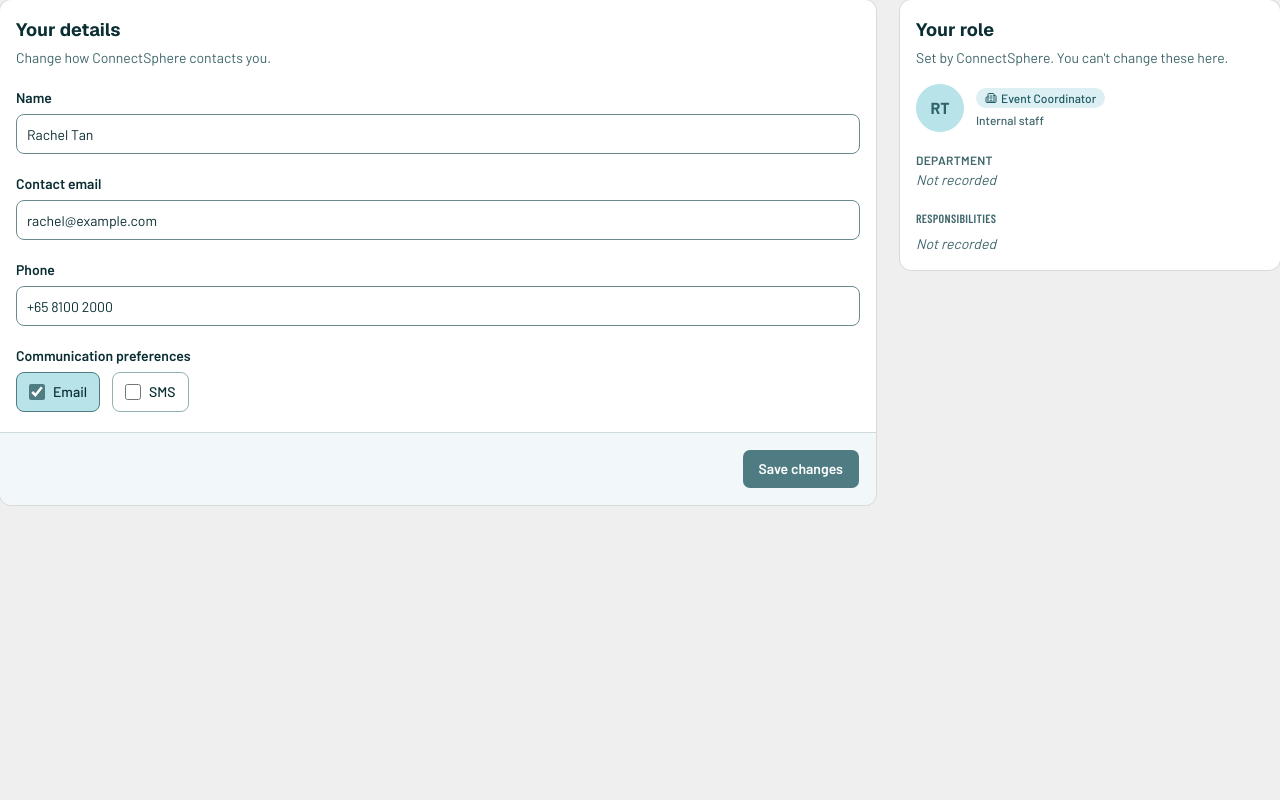
Test case: SCRUM-68/AC6 profile form: saving › 68-S4: sends the new details and confirms 'Profile updated.' when everything is valid
Replace the text in the field labelled "Name" with "Rachel Lim": [438, 134] box x1=16 y1=114 x2=860 y2=154
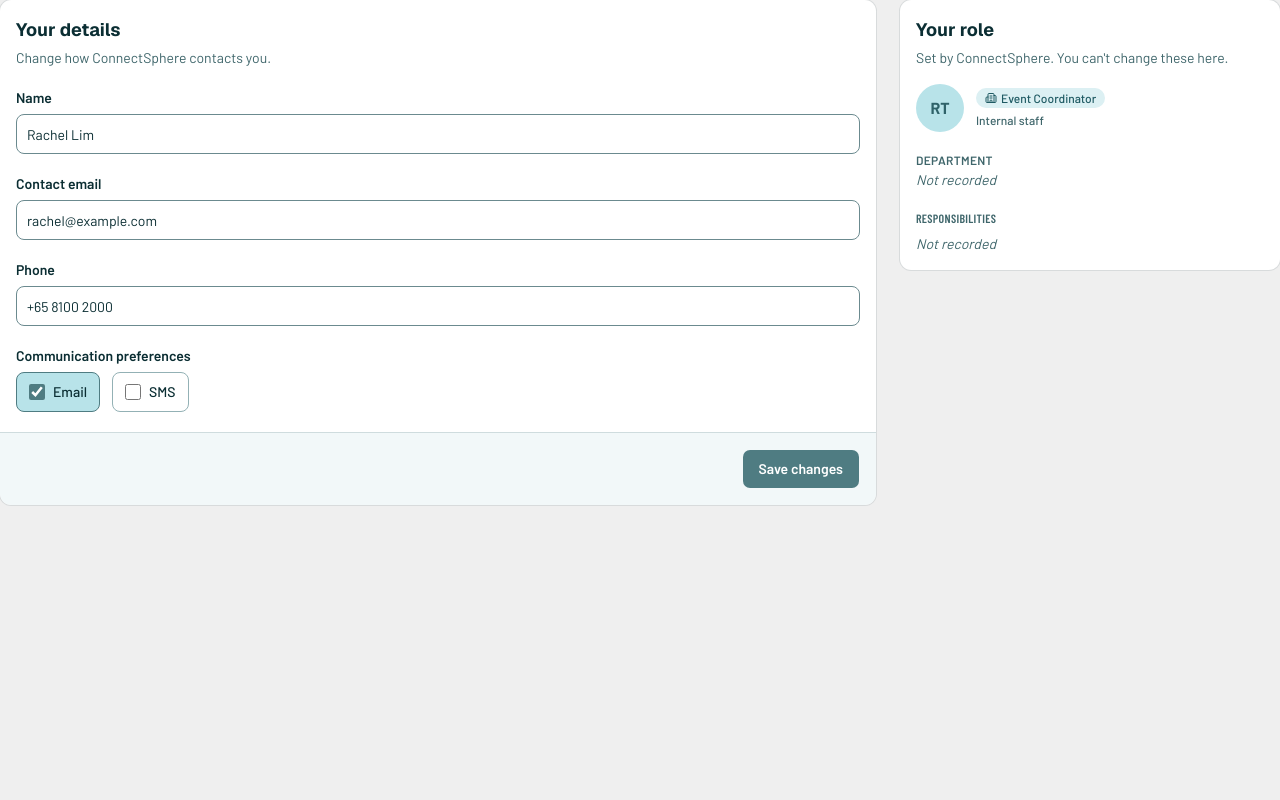
Click the checkbox labelled "SMS": [133, 392] box x1=125 y1=384 x2=141 y2=400
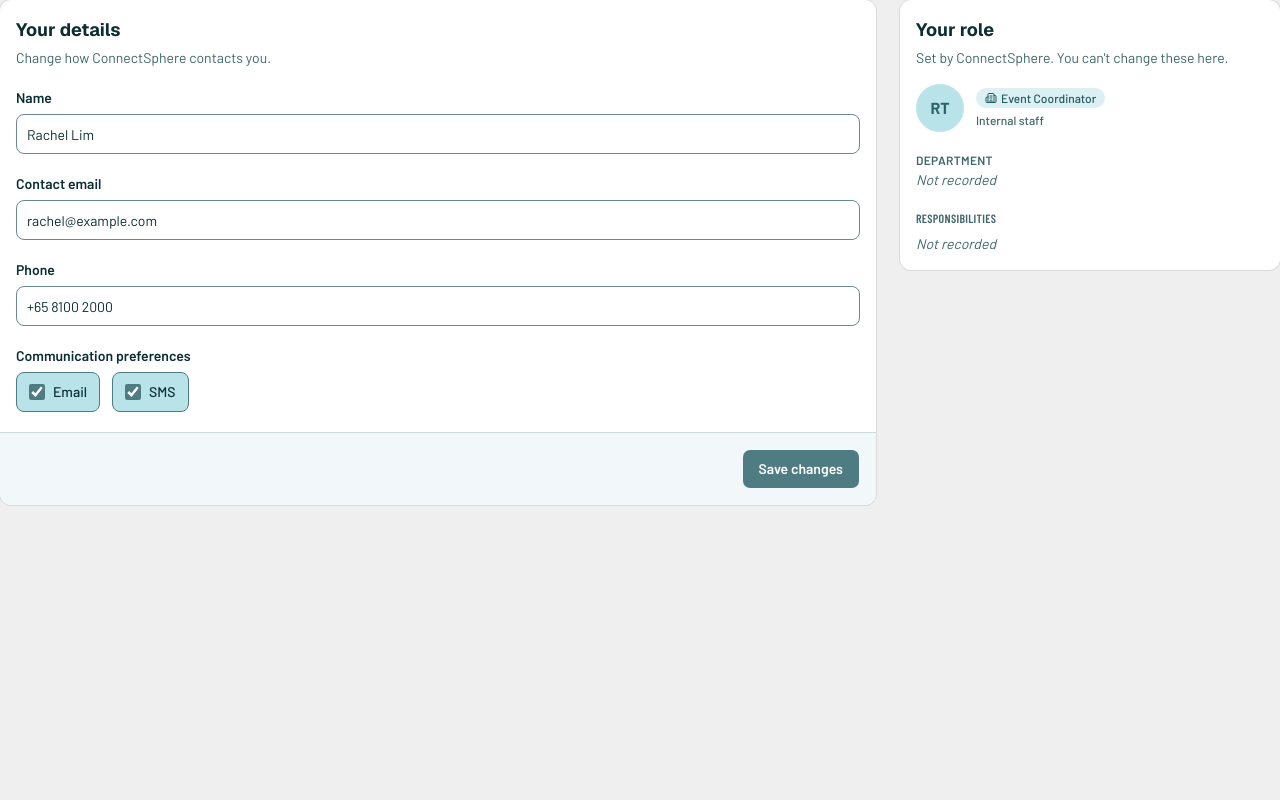
Click the button "Save changes": [801, 469] box x1=742 y1=449 x2=860 y2=489
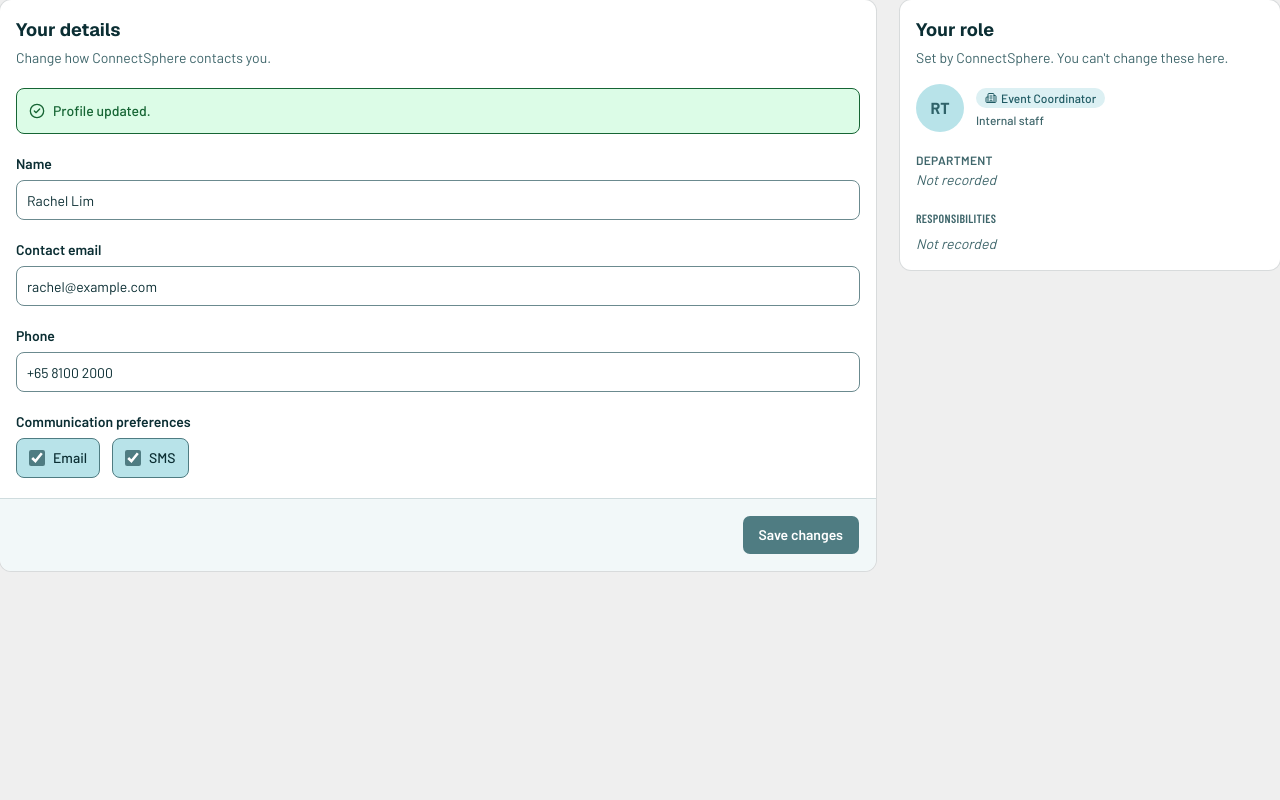
Expected: the text "Profile updated." is shown, x1=53 y1=101 x2=151 y2=121
